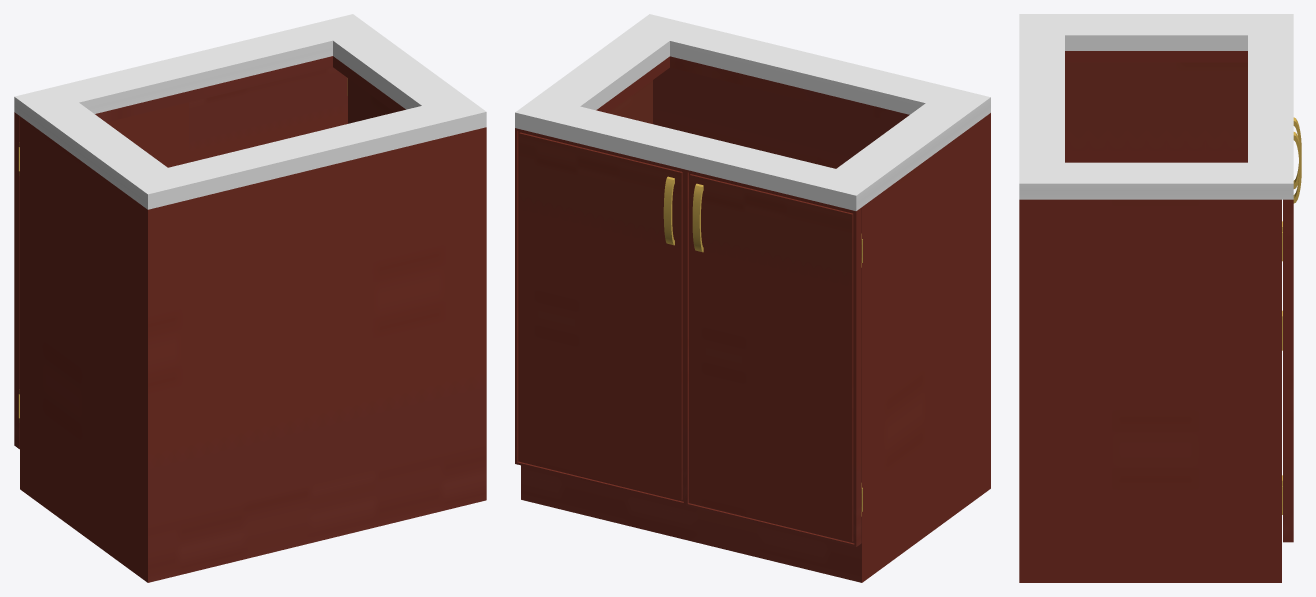
Rendered from CabinetF_Sink.glb.
3 views of the same model, side by side, from view 1: azimuth 30°, elevation 25°; view 2: azimuth 150°, elevation 25°; view 3: azimuth 270°, elevation 25° (orthographic). The views are drawn at different scales.
Parts seen in each view (by area): view 1: CabinetF_Sink_model, CabinetF_SinkDoor02, CabinetF_SinkDoor01; view 2: CabinetF_Sink_model, CabinetF_SinkDoor01, CabinetF_SinkDoor02; view 3: CabinetF_Sink_model, CabinetF_SinkDoor02.
Boxes of the visible parts, x1,y1,x2,y2 form: CabinetF_Sink_model: (14,14,486,582); CabinetF_SinkDoor02: (189,67,347,162); CabinetF_SinkDoor01: (14,102,188,449); CabinetF_Sink_model: (515,14,990,582); CabinetF_SinkDoor01: (685,170,862,546); CabinetF_SinkDoor02: (515,128,685,505); CabinetF_Sink_model: (1019,14,1293,582); CabinetF_SinkDoor02: (1282,132,1301,542).
Bounding box in the file's own units: 1.85 × 2.02 × 1.29.
Materials: 1 (1 with a texture image).
